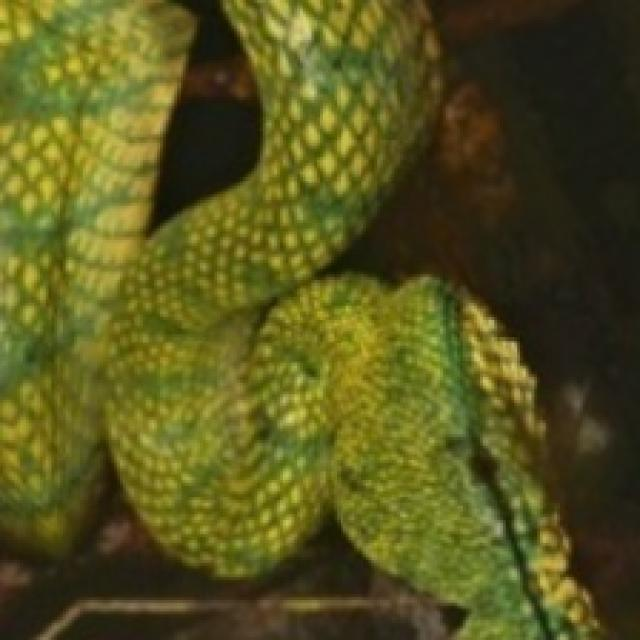north ph temple pitviper: (0, 0, 597, 637)
